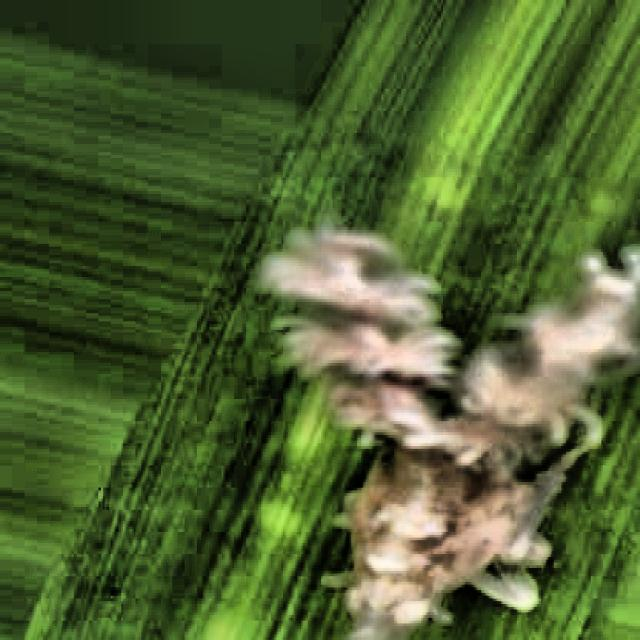Pyrilla-perpusilla: (201, 155, 640, 640)
